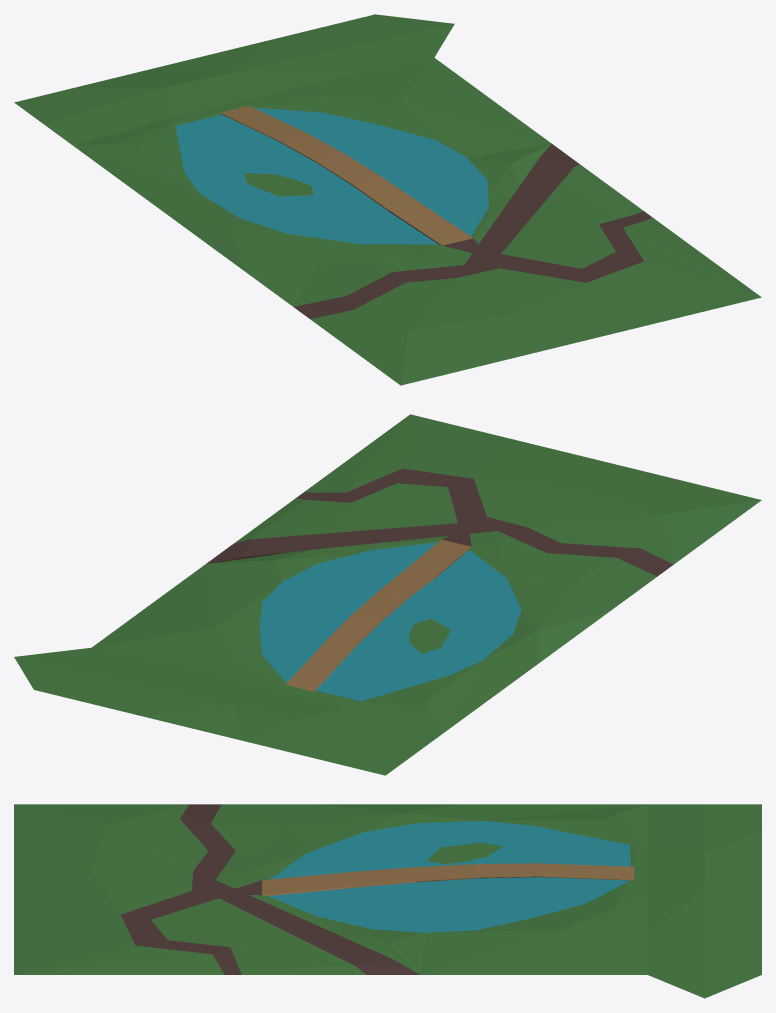
The model's file is park.fbx.
3 views of the same model, one above another, from view 1: azimuth 30°, elevation 25°; view 2: azimuth 150°, elevation 25°; view 3: azimuth 270°, elevation 25° (orthographic). The views are drawn at different scales.
Parts seen in each view (by area): view 1: Plane; view 2: Plane; view 3: Plane.
Boxes of the visible parts, x1=… form: Plane: x1=14, y1=14, x2=761, y2=385; Plane: x1=14, y1=414, x2=761, y2=775; Plane: x1=14, y1=804, x2=761, y2=998.
Size of the model in its own units: 29714 by 891 by 48400.
